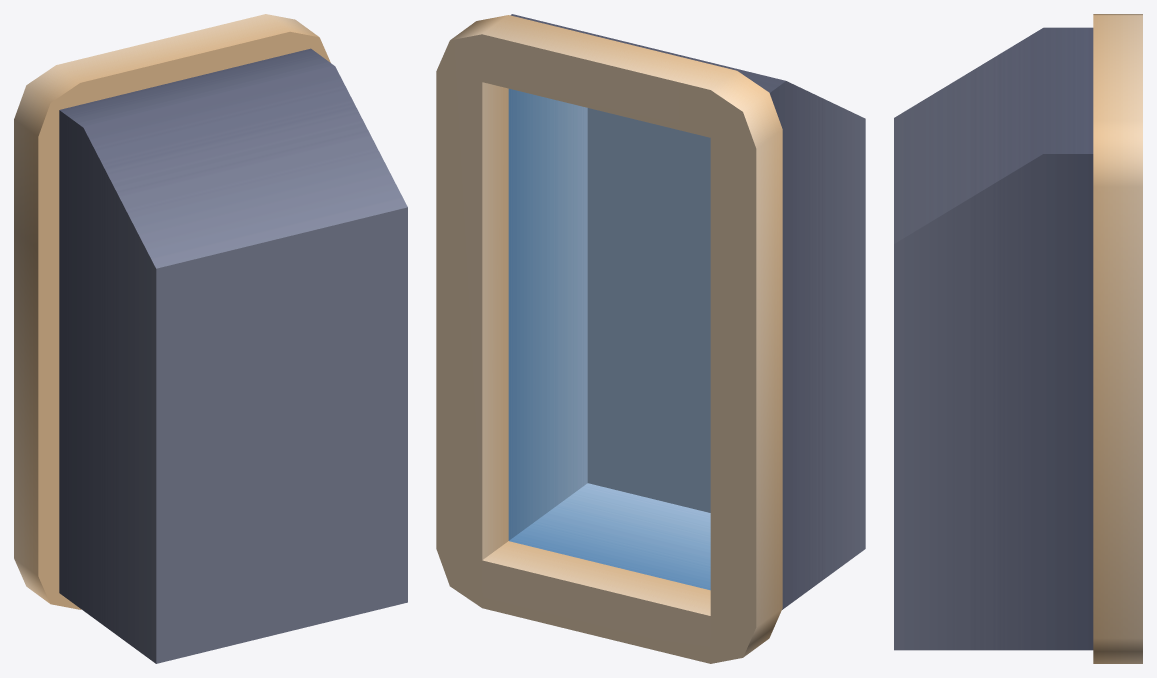
Rendered from skip.fbx.
The picture shows the model from 3 angles, left to right: view 1: azimuth 30°, elevation 25°; view 2: azimuth 150°, elevation 25°; view 3: azimuth 270°, elevation 25°; orthographic projection. The views are drawn at different scales.
Visible parts, largest first — view 1: skip; view 2: skip; view 3: skip.
Part boxes in pixels (left/top/right/bottom): skip: left=14, top=14, right=407, bottom=663; skip: left=436, top=14, right=865, bottom=663; skip: left=894, top=14, right=1142, bottom=663.
Size of the model in its own units: 70 by 120 by 50.
